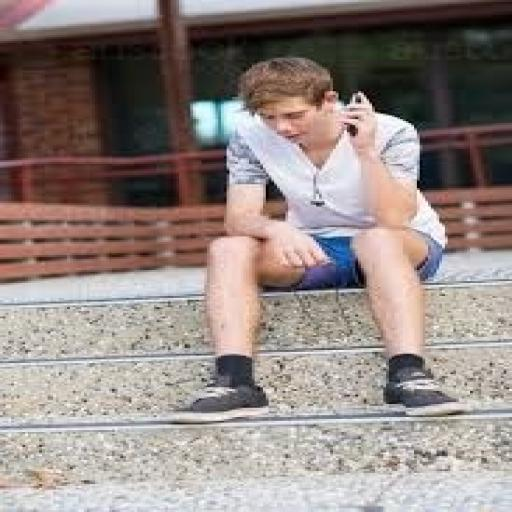sitting: (168, 54, 470, 421)
